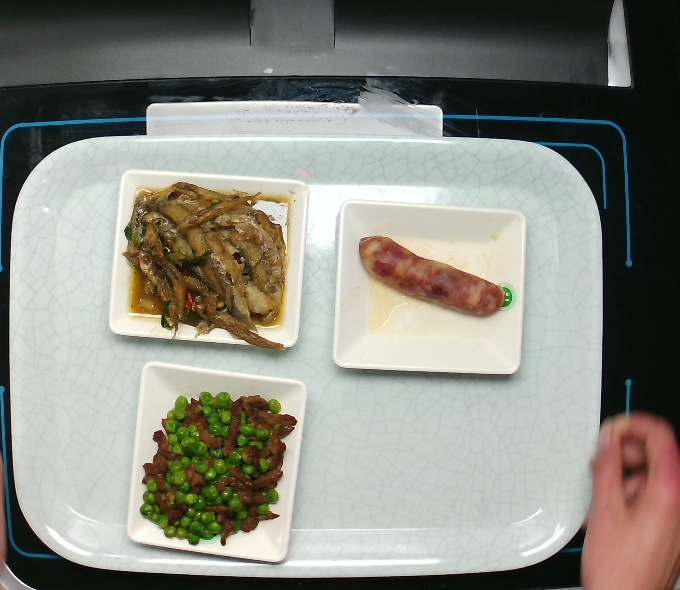wcq-CanDouNiuRou: (135, 373, 302, 552)
wcq-XiangChang: (356, 225, 513, 325)
wcq-XiaoJiYu: (121, 172, 293, 354)
